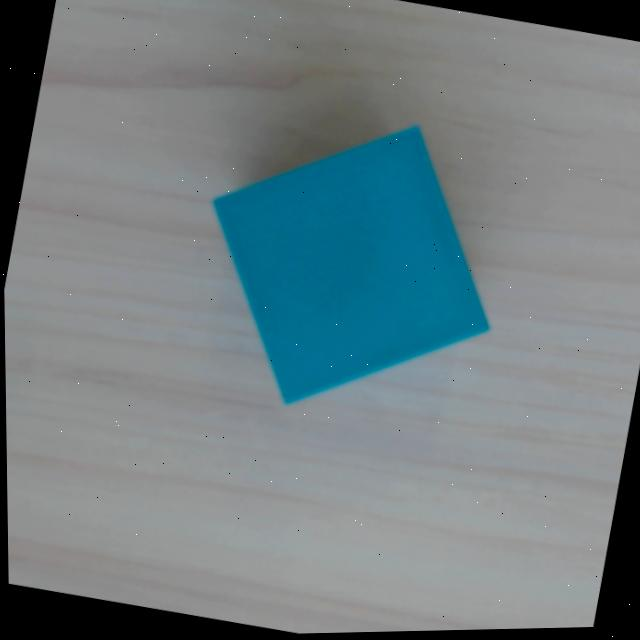Kubus-Hijau-505050: (211, 124, 493, 405)
